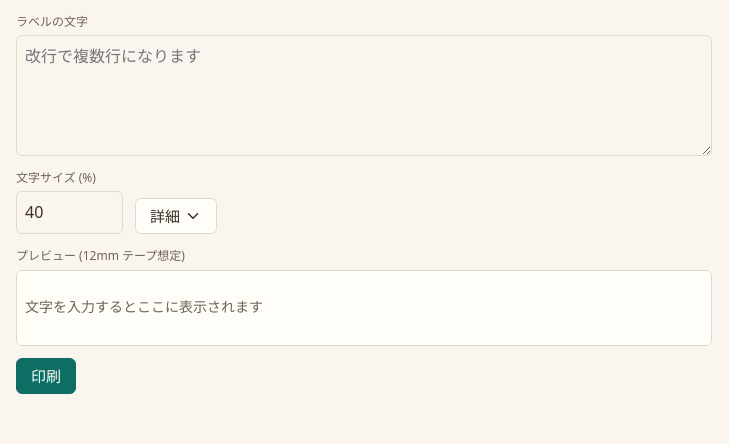
Test: Print › ignores a stale preview response that resolves after a newer one
Expected: the button "詳細" is shown, [135,198,217,234]
Type "first" into the text box labelled "ラベルの文字".
click(364, 95); type("first")  # box [16,35,712,156]
Wait 400 ms
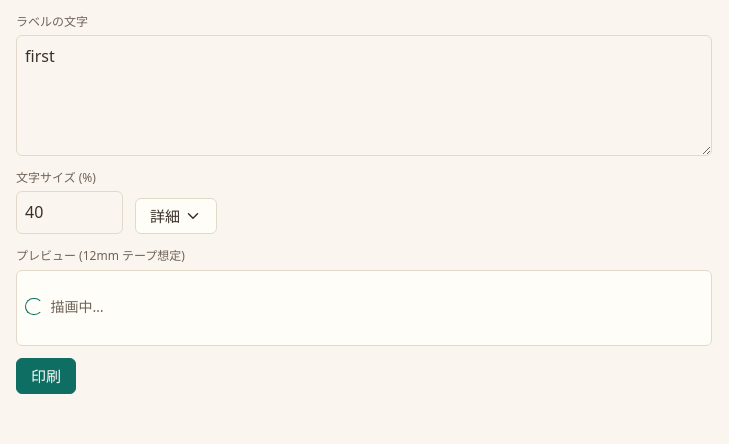
Replace the text in the text box labelled "ラベルの文字" with "second" at point(364, 95), box [16,35,712,156]
Wait 410 ms
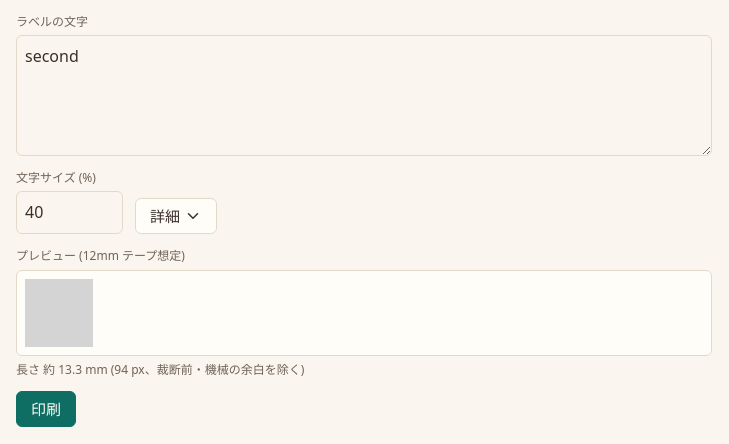
Expected: the text "長さ 約 13.3 mm (94 px、裁断前・機械の余白を除く)" is shown, [16,360,304,378]
